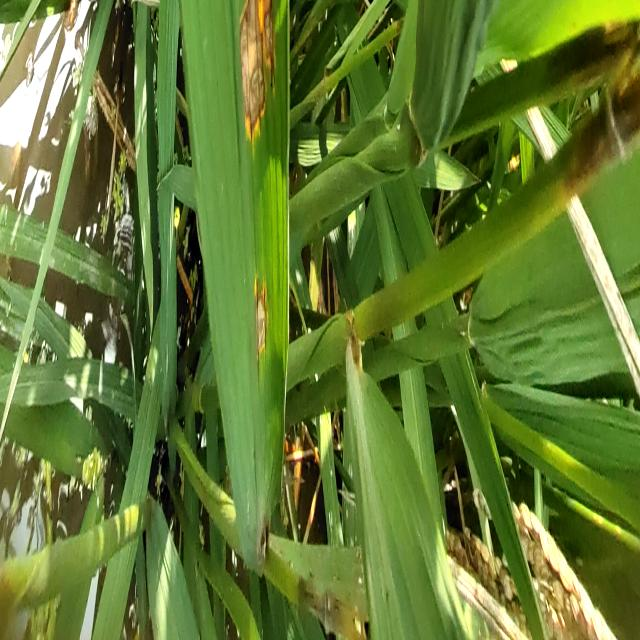LEAF BLAST: (240, 0, 274, 140), (256, 281, 267, 358)
